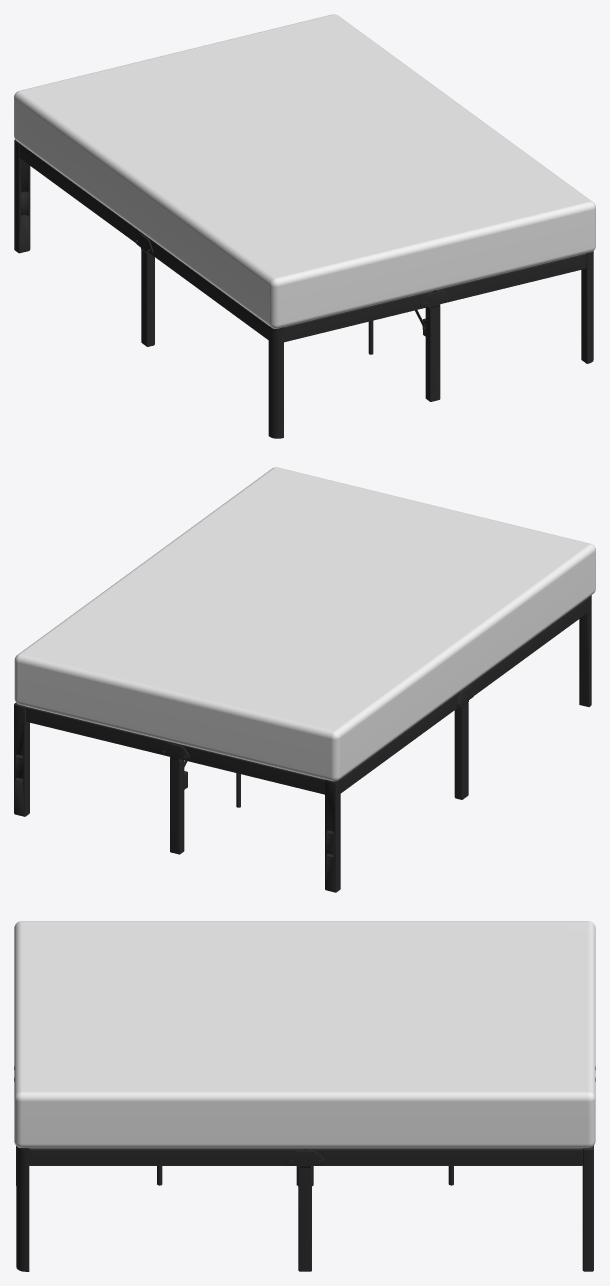
File: B086VNNCMZ.glb
3 renders of one model, top to bottom at view 1: azimuth 30°, elevation 25°; view 2: azimuth 150°, elevation 25°; view 3: azimuth 270°, elevation 25°, orthographic. The views are drawn at different scales.
Visible parts, largest first — view 1: RootNode; view 2: RootNode; view 3: RootNode.
Boxes of the visible parts, x1,y1,x2,y2 form: RootNode: (14,14,595,438); RootNode: (14,467,595,892); RootNode: (14,921,595,1271).
Size of the model in its own units: 1.41 by 0.6592 by 1.96.
Materials: 1 (1 with a texture image).
